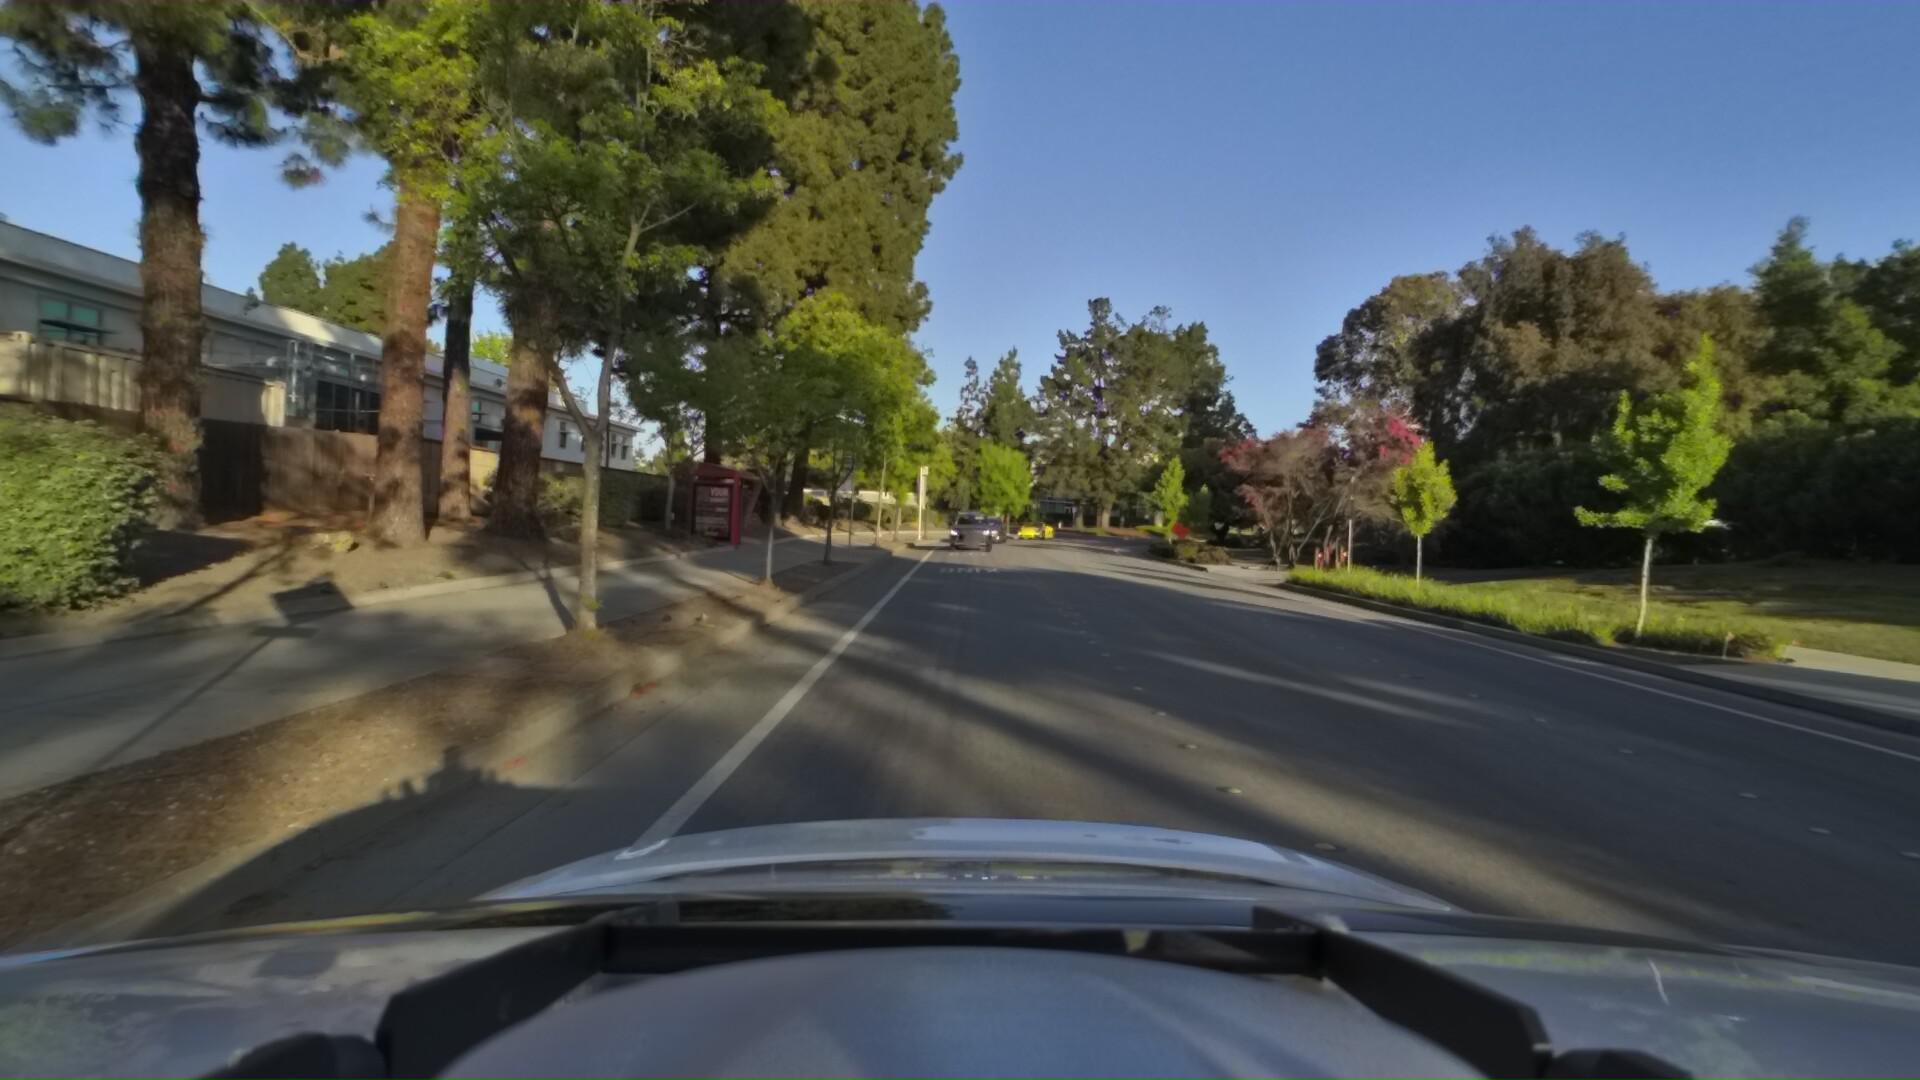car: (944, 500, 996, 547), (965, 504, 1010, 539), (1010, 514, 1055, 535)
